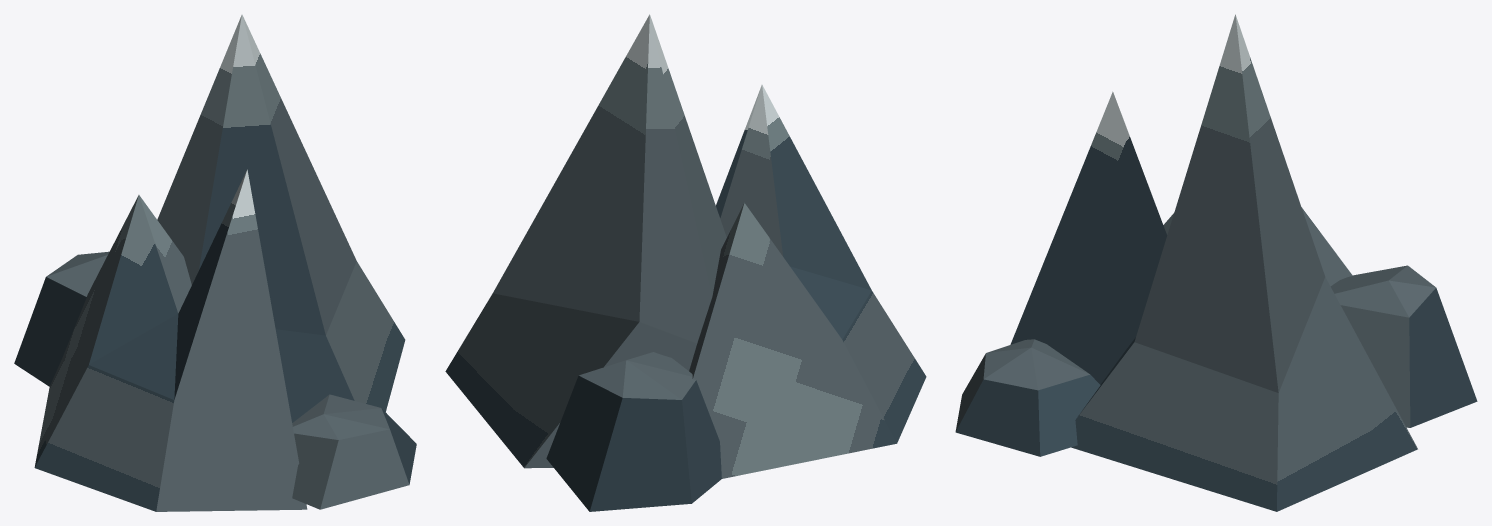
Rendered from mountain_2.gltf.
The picture shows the model from 3 angles, left to right: view 1: azimuth 30°, elevation 25°; view 2: azimuth 150°, elevation 25°; view 3: azimuth 270°, elevation 25°; orthographic projection. The views are drawn at different scales.
Visible parts, largest first — view 1: sphere (×4); view 2: sphere (×3); view 3: sphere (×4).
Part boxes in pixels (left/top/right/bottom): sphere (×4): left=14, top=14, right=416, bottom=511; sphere (×3): left=445, top=14, right=926, bottom=511; sphere (×4): left=955, top=14, right=1477, bottom=511.
Bounding box in the file's own units: 0.9634 × 0.8906 × 1.01.
1 material, 1 textured.
